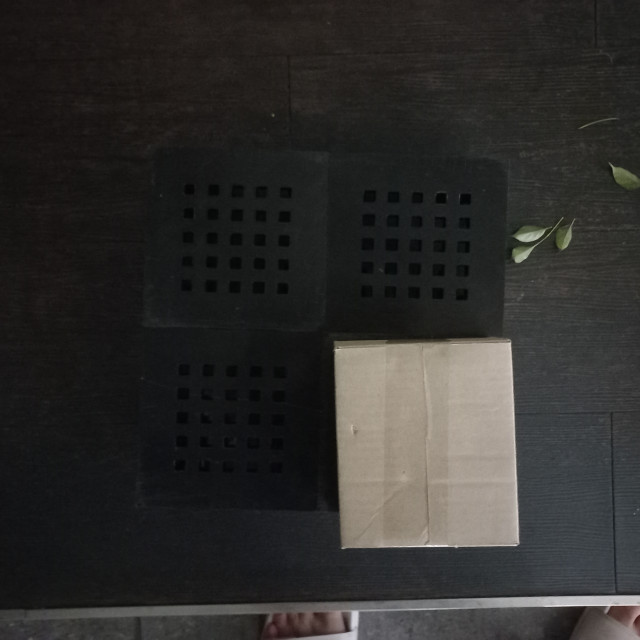box: (332, 336, 520, 551)
pallet: (127, 123, 515, 539)
